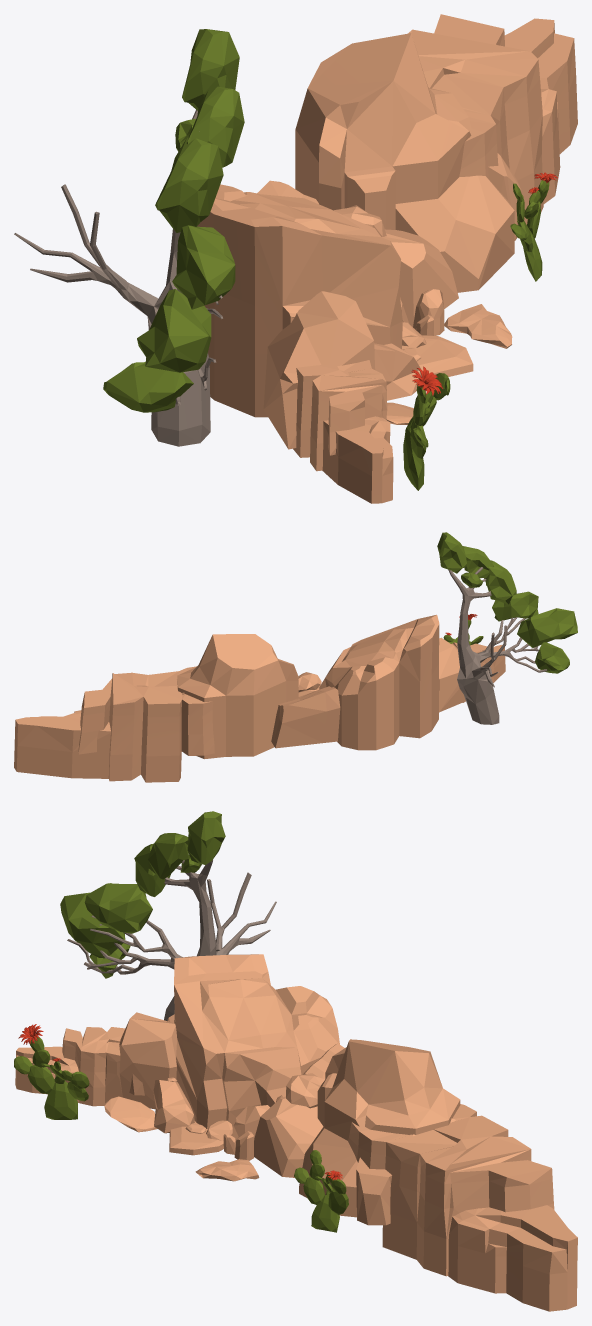
The model's file is obst.fbx.
3 renders of one model, top to bottom at view 1: azimuth 30°, elevation 25°; view 2: azimuth 150°, elevation 25°; view 3: azimuth 270°, elevation 25°, orthographic. The views are drawn at different scales.
Parts seen in each view (by area): view 1: Cube.001, Cube.002; view 2: Cube.001, Cube.002; view 3: Cube.001, Cube.002.
Boxes of the visible parts, x1=… form: Cube.001: x1=197, y1=14, x2=577, y2=503; Cube.002: x1=14, y1=29, x2=244, y2=446; Cube.001: x1=14, y1=614, x2=505, y2=782; Cube.002: x1=437, y1=532, x2=577, y2=724; Cube.001: x1=14, y1=954, x2=577, y2=1311; Cube.002: x1=60, y1=811, x2=276, y2=1020.
Size of the model in its own units: 41.22 by 21.57 by 36.91.
